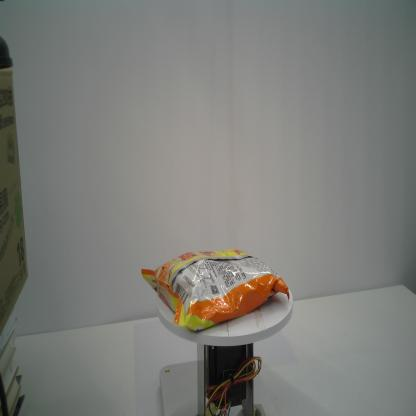Instant Noodles: (140, 246, 291, 333)
